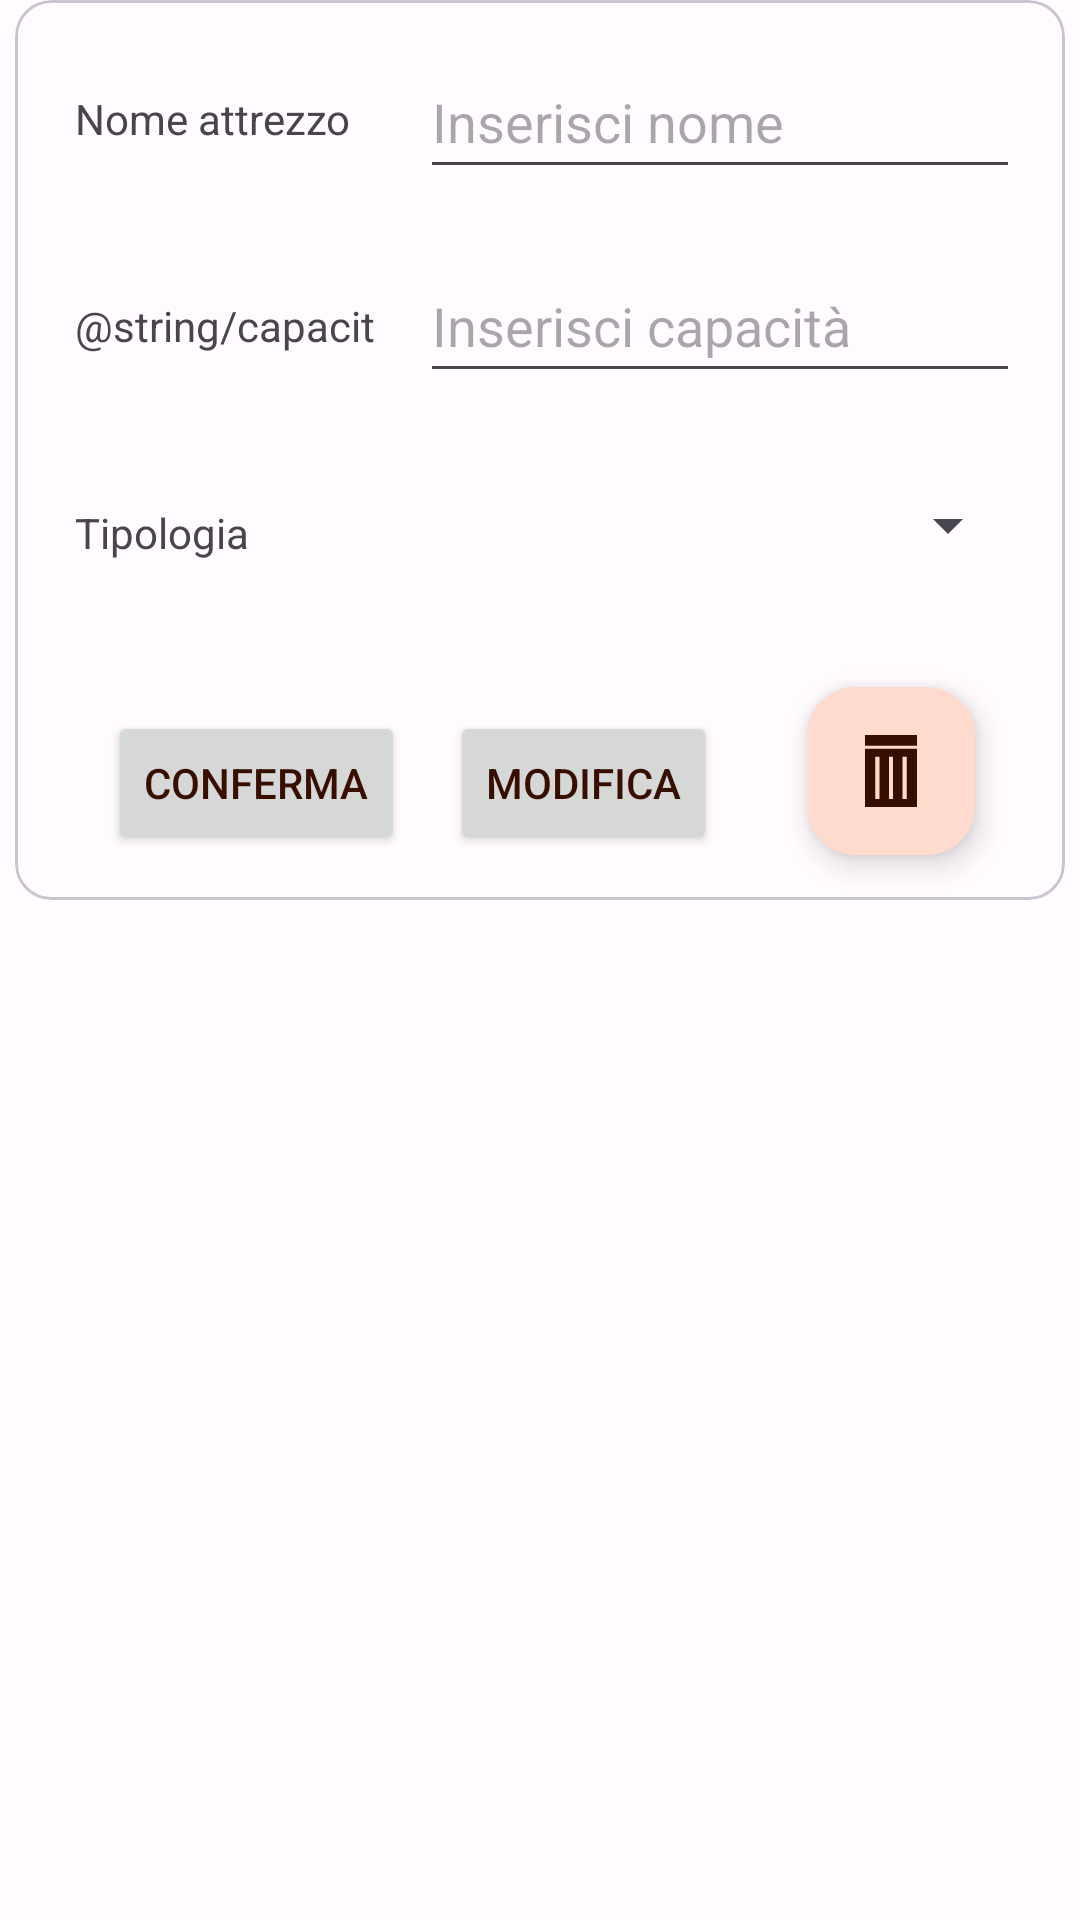

Named icons in this screenshot (1080w x 1920h) and their bounding boxes, (x1, y1, x2, y2):
Pulsante che cancella l'attrezzatura selezionata: (807, 687, 975, 855)
